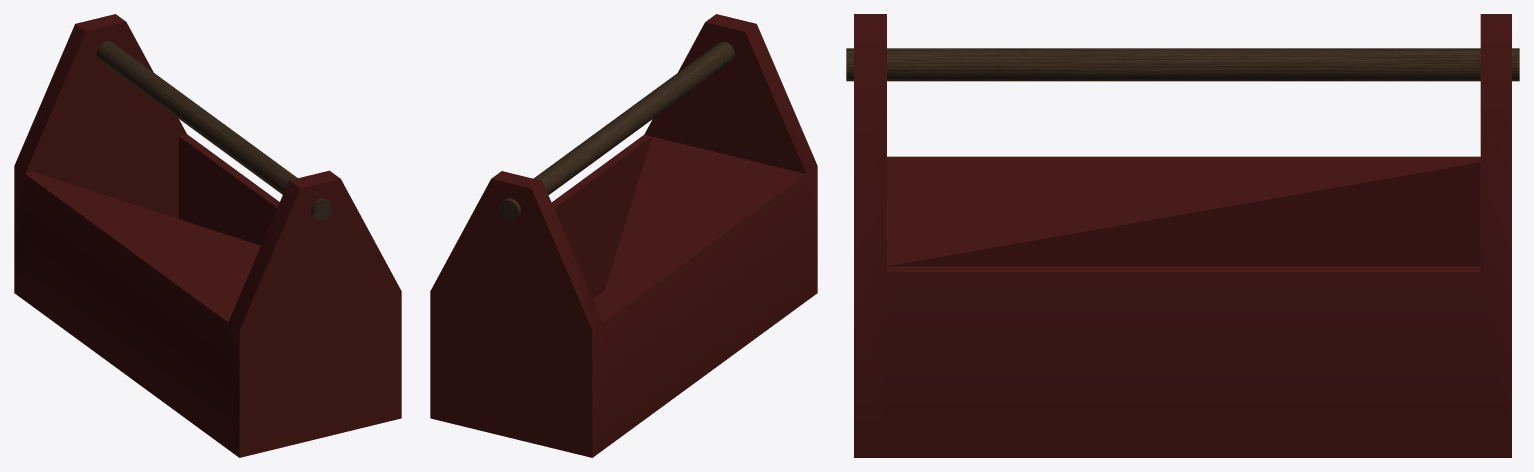
The model's file is Toolbox.fbx.
3 renders of one model, left to right at view 1: azimuth 30°, elevation 25°; view 2: azimuth 150°, elevation 25°; view 3: azimuth 270°, elevation 25°, orthographic. The views are drawn at different scales.
Parts seen in each view (by area): view 1: Cube; view 2: Cube; view 3: Cube.
Boxes of the visible parts, x1,y1,x2,y2 form: Cube: (14, 14, 401, 457); Cube: (430, 14, 817, 457); Cube: (846, 14, 1519, 457).
Size of the model in its own units: 200 by 300 by 493.
